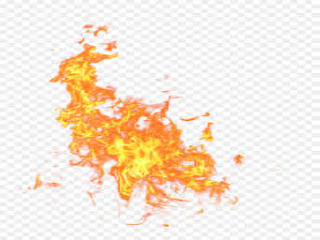fire: (45, 35, 240, 208)
